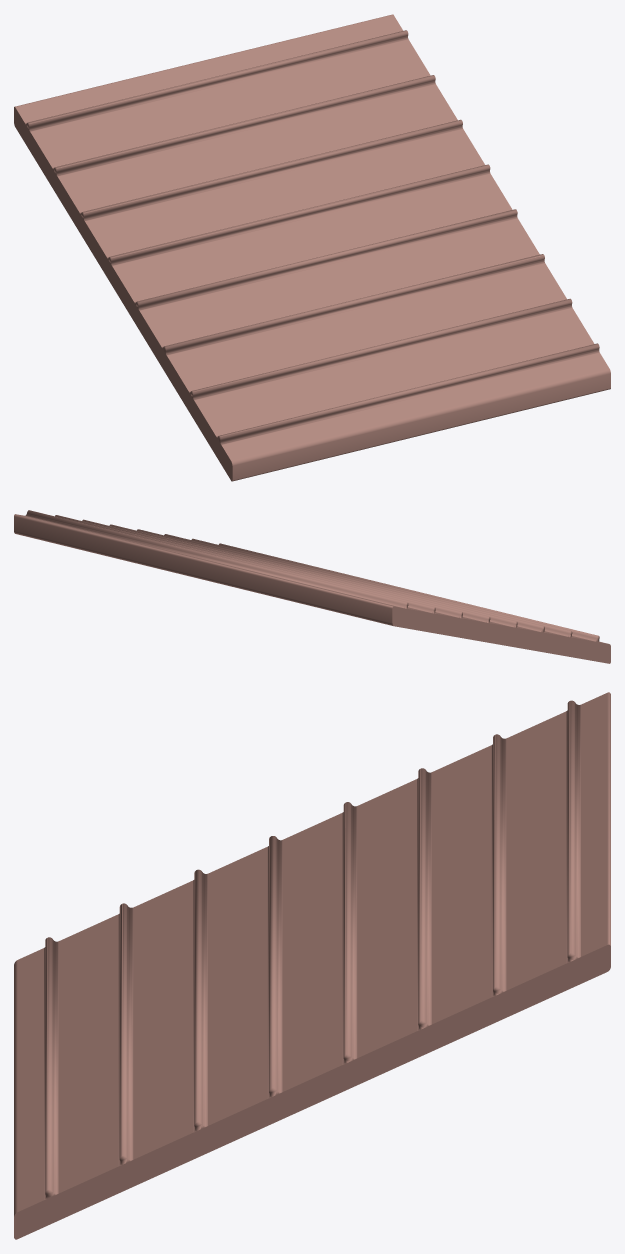
The model's file is RoofSlope.glb.
3 renders of one model, top to bottom at view 1: azimuth 30°, elevation 25°; view 2: azimuth 150°, elevation 25°; view 3: azimuth 270°, elevation 25°, orthographic. The views are drawn at different scales.
Visible parts, largest first — view 1: PBK_slope.003; view 2: PBK_slope.003; view 3: PBK_slope.003.
Part boxes in pixels (<box>): PBK_slope.003: <box>14,14,610,481</box>; PBK_slope.003: <box>14,510,610,663</box>; PBK_slope.003: <box>14,692,610,1239</box>.
Size of the model in its own units: 2 by 1.09 by 2.
